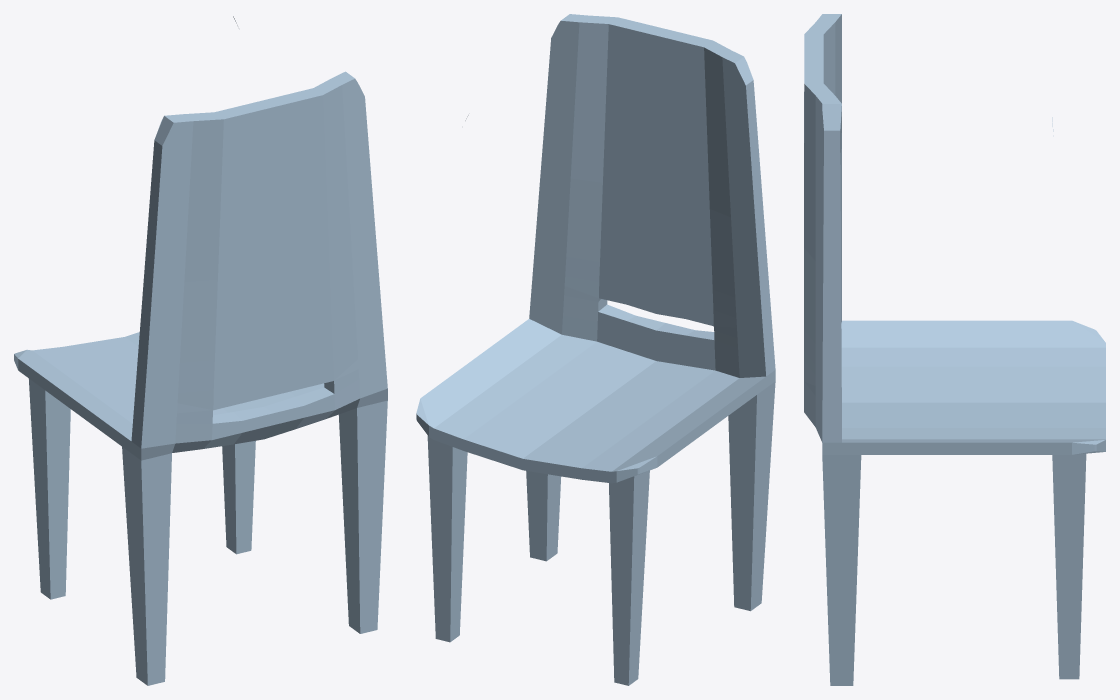
Rendered from ChairFoodCourt.fbx.
The picture shows the model from 3 angles, left to right: view 1: azimuth 30°, elevation 25°; view 2: azimuth 150°, elevation 25°; view 3: azimuth 270°, elevation 25°; orthographic projection. The views are drawn at different scales.
Parts seen in each view (by area): view 1: Cube.001; view 2: Cube.001; view 3: Cube.001.
Part boxes in pixels (bbox=[...]): Cube.001: bbox=[14, 16, 387, 685]; Cube.001: bbox=[416, 14, 775, 685]; Cube.001: bbox=[804, 14, 1105, 685].
Bounding box in the file's own units: 354 × 770 × 370.
